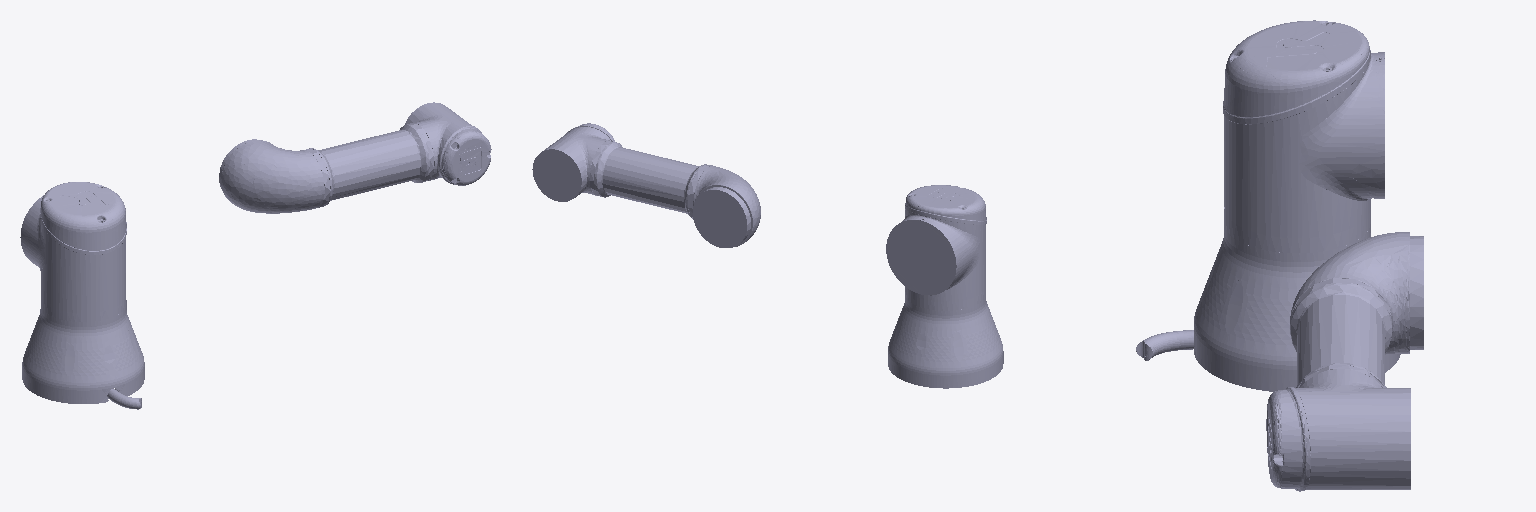
URDF robot description (ur3):
<?xml version="1.0"?>
<robot name="ur3">
  

  <link name="base_link">
    <visual>
      <origin xyz="0 0 0" rpy="0 0 0"/>
      <geometry>
        <mesh filename="meshes/visual/base.dae"/>
      </geometry>
      <material name="ur_grey">
        <color rgba="0.7 0.7 0.8 1"/>
      </material>
    </visual>
  </link>


  <link name="shoulder_link">
    <visual>
      <origin xyz="0 0 0" rpy="0 0 0"/>
      <geometry>
        <mesh filename="meshes/visual/shoulder.dae"/>
      </geometry>
      <material name="ur_grey">
        <color rgba="0.7 0.7 0.8 1"/>
      </material>
    </visual>
  </link>

  <joint name="shoulder_pan_joint" type="revolute">
    <parent link="base_link"/>
    <child link="shoulder_link"/>
    <origin xyz="0 0 0.1519" rpy="0 0 0"/>
    <axis xyz="0 0 1"/>
    <limit lower="-6.2832" upper="6.2832" effort="150" velocity="3.15"/>
  </joint>

  <link name="upper_arm_link">
    <visual>
      <origin xyz="0 0 0" rpy="0 0 0"/>
      <geometry>
        <mesh filename="meshes/visual/upperarm.dae"/>
      </geometry>
      <material name="ur_grey"/>
    </visual>
  </link>

  <joint name="shoulder_lift_joint" type="revolute">
    <parent link="shoulder_link"/>
    <child link="upper_arm_link"/>
    <origin xyz="0 0.1198 0" rpy="0 1.5708 0"/>
    <axis xyz="0 1 0"/>
    <limit lower="-6.2832" upper="6.2832" effort="150" velocity="3.15"/>
  </joint>


  <link name="forearm_link">
    <visual>
      <origin xyz="0 0 0" rpy="0 0 0"/>
      <geometry>
        <mesh filename="meshes/visual/forearm.dae"/>
      </geometry>
      <material name="ur_grey"/>
    </visual>
  </link>

  <joint name="elbow_joint" type="revolute">
    <parent link="upper_arm_link"/>
    <child link="forearm_link"/>
    <origin xyz="0 -0.0925 0.24365" rpy="0 0 0"/>
    <axis xyz="0 1 0"/>
    <limit lower="-6.2832" upper="3.1416" effort="150" velocity="3.15"/>
  </joint>


  <link name="wrist_1_link">
    <visual>
      <origin xyz="0 0 0" rpy="0 0 0"/>
      <geometry>
        <mesh filename="meshes/visual/wrist1.dae"/>
      </geometry>
      <material name="ur_grey"/>
    </visual>
  </link>

  <joint name="wrist_1_joint" type="revolute">
    <parent link="forearm_link"/>
    <child link="wrist_1_link"/>
    <origin xyz="0 0 0.21325" rpy="0 1.5708 0"/>
    <axis xyz="0 1 0"/>
    <limit lower="-6.2832" upper="6.2832" effort="28" velocity="3.2"/>
  </joint>

  <link name="wrist_2_link">
    <visual>
      <origin xyz="0 0 0" rpy="0 0 0"/>
      <geometry>
        <mesh filename="meshes/visual/wrist2.dae"/>
      </geometry>
      <material name="ur_grey"/>
    </visual>
  </link>

  <joint name="wrist_2_joint" type="revolute">
    <parent link="wrist_1_link"/>
    <child link="wrist_2_link"/>
    <origin xyz="0 0.08505 0" rpy="0 0 0"/>
    <axis xyz="0 0 1"/>
    <limit lower="-6.2832" upper="6.2832" effort="28" velocity="3.2"/>
  </joint>


  <link name="wrist_3_link">
    <visual>
      <origin xyz="0 0 0" rpy="0 0 0"/>
      <geometry>
        <mesh filename="meshes/visual/wrist3.dae"/>
      </geometry>
      <material name="ur_grey"/>
    </visual>
  </link>

  <joint name="wrist_3_joint" type="revolute">
    <parent link="wrist_2_link"/>
    <child link="wrist_3_link"/>
    <origin xyz="0 0 0.08535" rpy="0 0 0"/>
    <axis xyz="0 1 0"/>
    <limit lower="-6.2832" upper="6.2832" effort="28" velocity="3.2"/>
  </joint>

  <joint name="ee_fixed_joint" type="fixed">
    <origin xyz="0. 0.0819 0. " rpy="0. 0. 1.5707964"/>
    <parent link="wrist_3_link"/>
    <child link="ee_link"/>
  </joint>

  <link name="ee_link">
  </link>


</robot>

--- Facts derived from the render (not from the file) ---
Views: 3 orthographic renders of the robot side by side, from view 1: azimuth 30°, elevation 25°; view 2: azimuth 150°, elevation 25°; view 3: azimuth 270°, elevation 25°.
Model ur3 with 8 links and 7 joints (6 revolute, 1 fixed), rooted at base_link, posed every joint at zero.
Visible links, largest first — view 1: forearm_link, shoulder_link, base_link; view 2: forearm_link, shoulder_link, base_link; view 3: shoulder_link, forearm_link, base_link.
Link boxes in pixels (x1,y1,x2,y2): forearm_link: (219,102,491,213); shoulder_link: (20,182,126,321); base_link: (22,304,144,409); forearm_link: (532,123,760,247); shoulder_link: (886,185,986,310); base_link: (888,296,1003,388); shoulder_link: (1223,20,1384,252); forearm_link: (1266,232,1423,491); base_link: (1136,224,1400,391).
Bounding box of the posed robot: 0.553 × 0.1775 × 0.2097 m (x, y, z).
3 mesh visuals loaded from 7 distinct referenced files (3 Collada DAE); not drawn: 4 (reference not matched to a file when rendering).